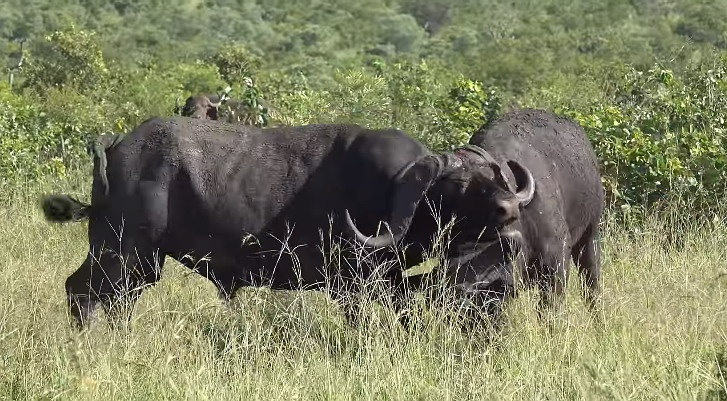buffalo: (62, 118, 537, 309), (416, 105, 607, 324)
